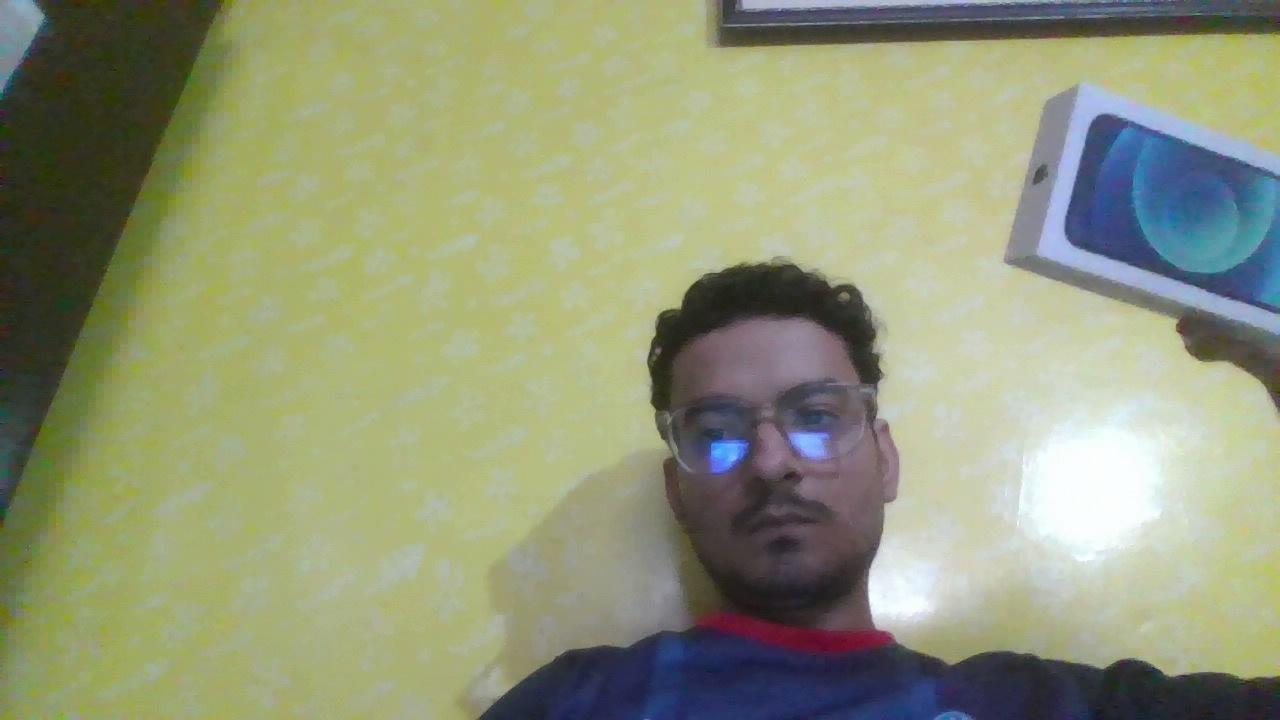Phone: (991, 75, 1280, 369)
